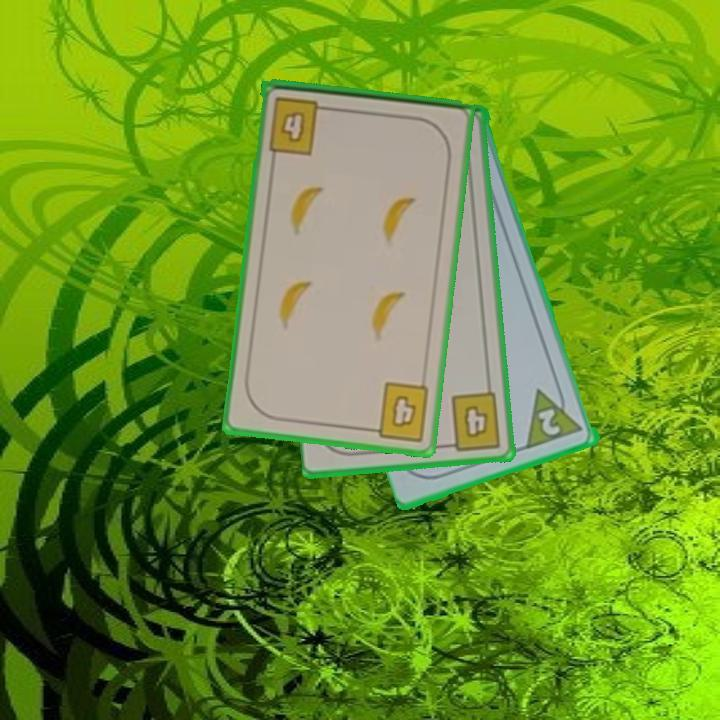2p: (523, 379, 586, 452)
4b: (364, 379, 433, 444), (265, 93, 334, 158), (441, 389, 504, 453)
